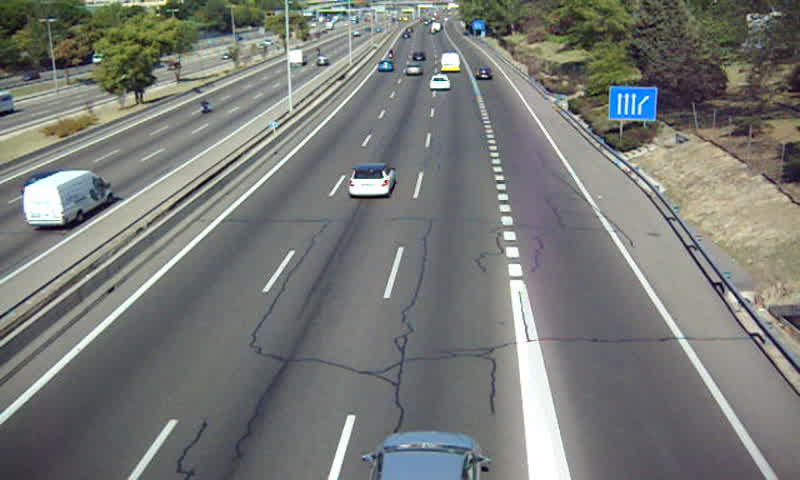car: (350, 164, 396, 197), (428, 76, 452, 91), (474, 68, 493, 82)
van: (440, 53, 460, 71)
